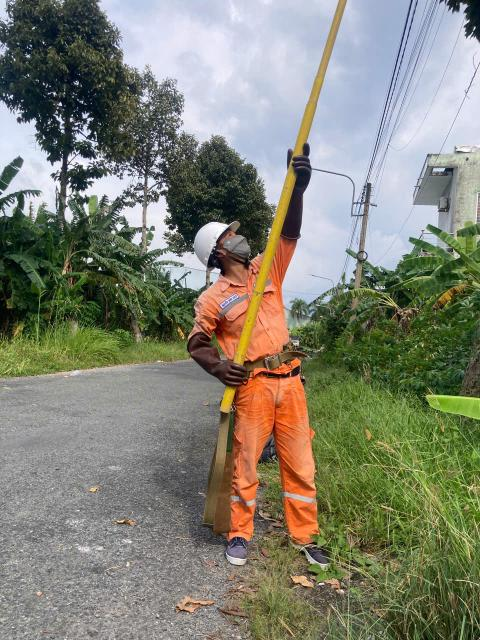gloves: (190, 332, 251, 391), (279, 136, 308, 249)
harness: (236, 340, 324, 379)
helmet: (182, 210, 243, 270)
shoes: (289, 529, 342, 573), (223, 529, 252, 574)
